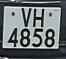4: (7, 27, 20, 49)
5: (31, 28, 44, 49)
8: (19, 28, 32, 49), (44, 28, 57, 48)
H: (32, 7, 46, 29)
V: (20, 6, 33, 29)
